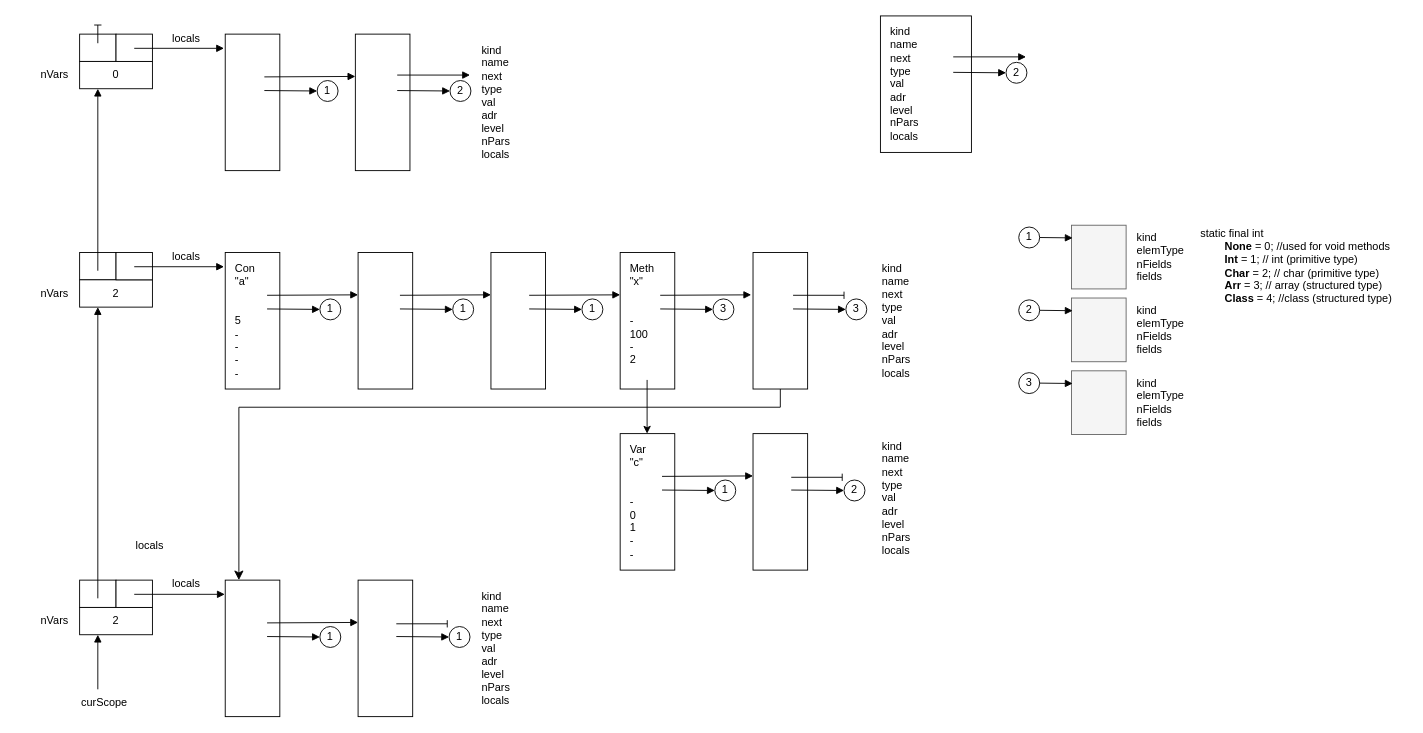
Some shapes in this 1423 by 733 pixel diagram are drawn without their labels. Here are the shapes that lost their labels. From the top down, the centre of each, then its label:
[252,102]: Type "int" - - - - -
[382,102]: Type "char" - - - - -
[1098,256]: Int - - -
[385,320]: Var "b" - 0 0 - -
[518,320]: Var "c" - 1 0 - -
[780,320]: Meth "main" - 200 - 0 -
[1098,329]: Char - - -
[1098,402]: None - - -
[780,501]: Var "d" - 1 1 - -
[252,648]: Var "f" - 0 1 - -
[385,648]: Var "g" - 1 1 - -
